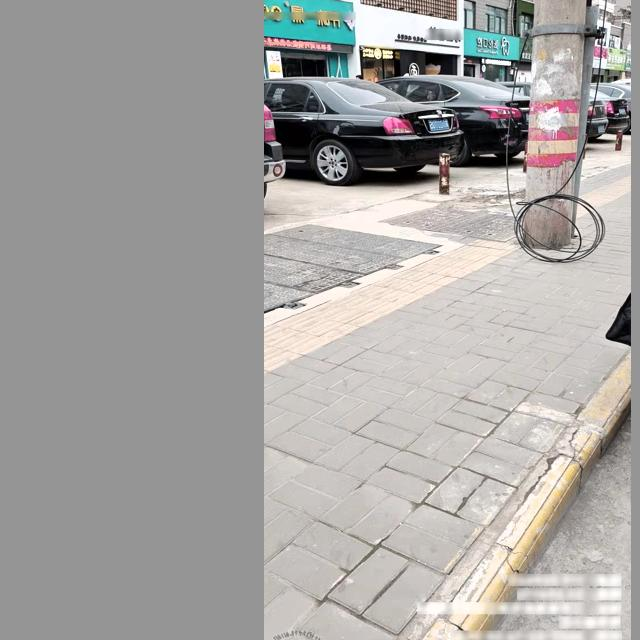good: (264, 221, 445, 320), (381, 204, 522, 244)
